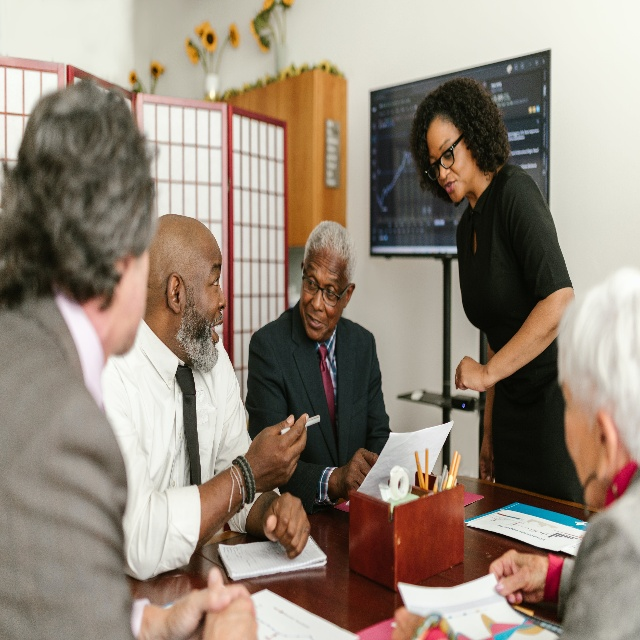Gafas: (302, 275, 340, 306), (428, 145, 456, 183)
Sin_guantes: (246, 414, 309, 491), (166, 586, 251, 640), (203, 562, 261, 640), (488, 549, 549, 617), (262, 495, 312, 559), (340, 444, 382, 497), (454, 357, 485, 399), (478, 434, 494, 484)
